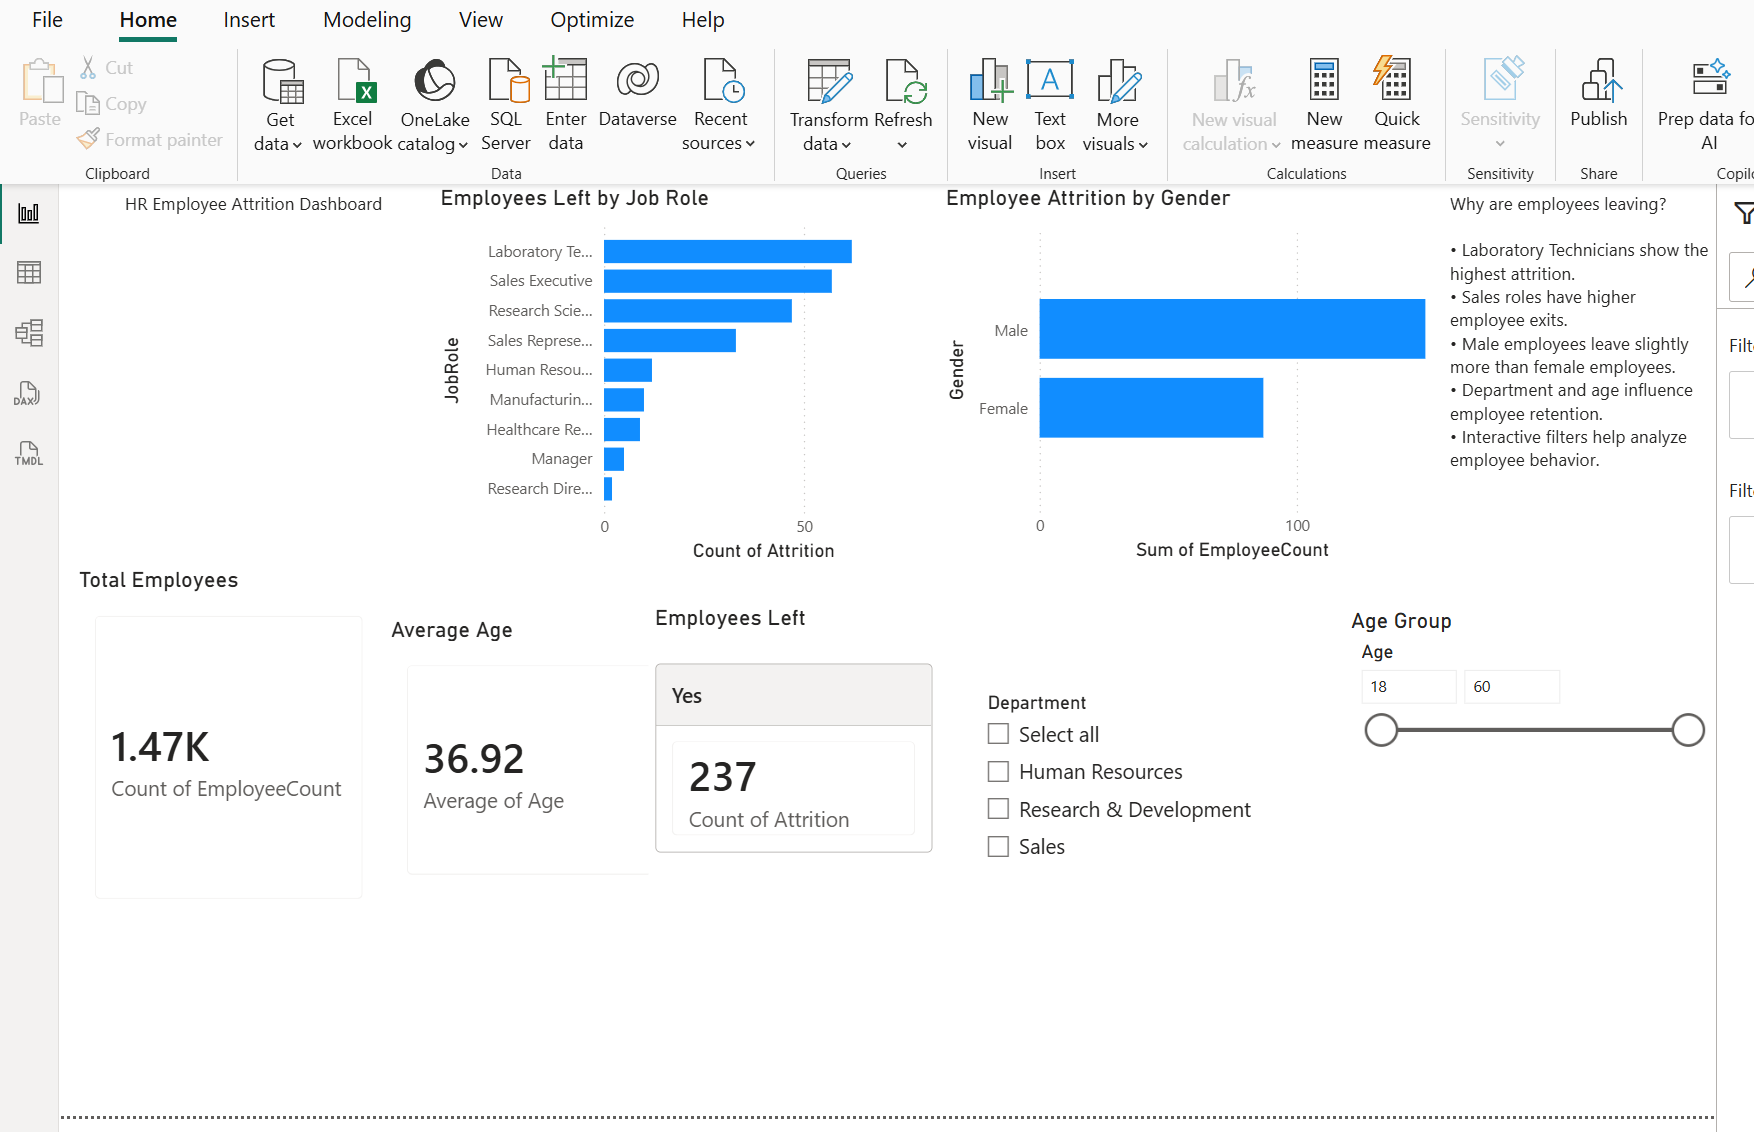

The dashboard page shown, as its layout file describes it:
{"tool":"powerbi","page":{"name":"Page 1","canvas":[1280,720],"ordinal":0},"visuals":[{"type":"textbox","box":[10,0,280,280],"z":0},{"type":"cardVisual","title":"Total Employees","fields":{"Data":["CountNonNull(WA_Fn-UseC_-HR-Employee-Attrition.EmployeeCount)"]},"box":[10,295.7,241.4,274.3],"z":1000},{"type":"cardVisual","title":"Average Age","fields":{"Data":["Avg(WA_Fn-UseC_-HR-Employee-Attrition.Age)"]},"box":[251.4,334.3,224.3,217.1],"z":2000},{"type":"cardVisual","title":"Employees Left","fields":{"Rows":["WA_Fn-UseC_-HR-Employee-Attrition.Attrition"],"Data":["CountNonNull(WA_Fn-UseC_-HR-Employee-Attrition.Attrition)"]},"box":[455.7,324.3,224.3,217.1],"z":3000},{"type":"slicer","fields":{"Values":["WA_Fn-UseC_-HR-Employee-Attrition.Department"]},"box":[704.3,387.1,288.6,164.3],"z":3001},{"type":"clusteredBarChart","title":"Employees Left by Job Role","fields":{"Category":["WA_Fn-UseC_-HR-Employee-Attrition.JobRole"],"Y":["CountNonNull(WA_Fn-UseC_-HR-Employee-Attrition.Attrition)"]},"box":[290,0,390,295.7],"z":3002},{"type":"clusteredBarChart","title":"Employee Attrition by Gender","fields":{"Category":["WA_Fn-UseC_-HR-Employee-Attrition.Gender"],"Y":["Sum(WA_Fn-UseC_-HR-Employee-Attrition.EmployeeCount)"]},"box":[680,0,390,295],"z":3003},{"type":"slicer","title":"Age Group","fields":{"Values":["WA_Fn-UseC_-HR-Employee-Attrition.Age"]},"box":[993.3,326.7,286.7,266.7],"z":3004},{"type":"textbox","box":[1070,0,210,295],"z":3005}]}

Visuals, with their boxes on the page's 1280x720 design canvas (x1, y1, x2, y2). These are canvas units, not pixel positions in the 1754x1132 screenshot, which may show the page scaled, cropped or inside an application window:
textbox: 10, 0, 290, 280
"Total Employees" cardVisual: 10, 296, 251, 570
"Average Age" cardVisual: 251, 334, 476, 551
"Employees Left" cardVisual: 456, 324, 680, 541
slicer - WA_Fn-UseC_-HR-Employee-Attrition.Department: 704, 387, 993, 551
"Employees Left by Job Role" clusteredBarChart: 290, 0, 680, 296
"Employee Attrition by Gender" clusteredBarChart: 680, 0, 1070, 295
"Age Group" slicer: 993, 327, 1280, 593
textbox: 1070, 0, 1280, 295
